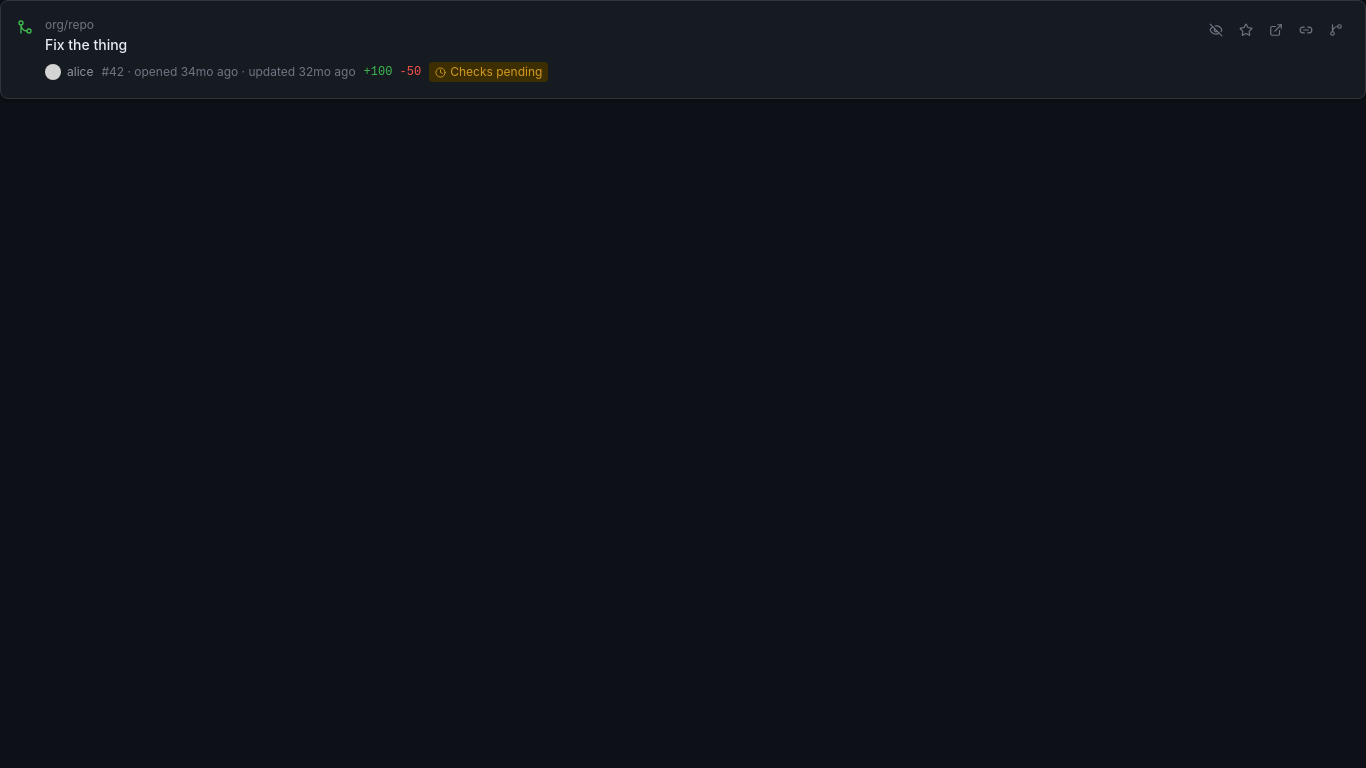
Test: PRCard › PRChecksModal rollup state footer › GIVEN rollup EXPECTED with all-green contexts WHEN checks opened THEN footer note appears
Step 1. Click the button "Checks pending" → (489, 72), box [429,62,548,82]
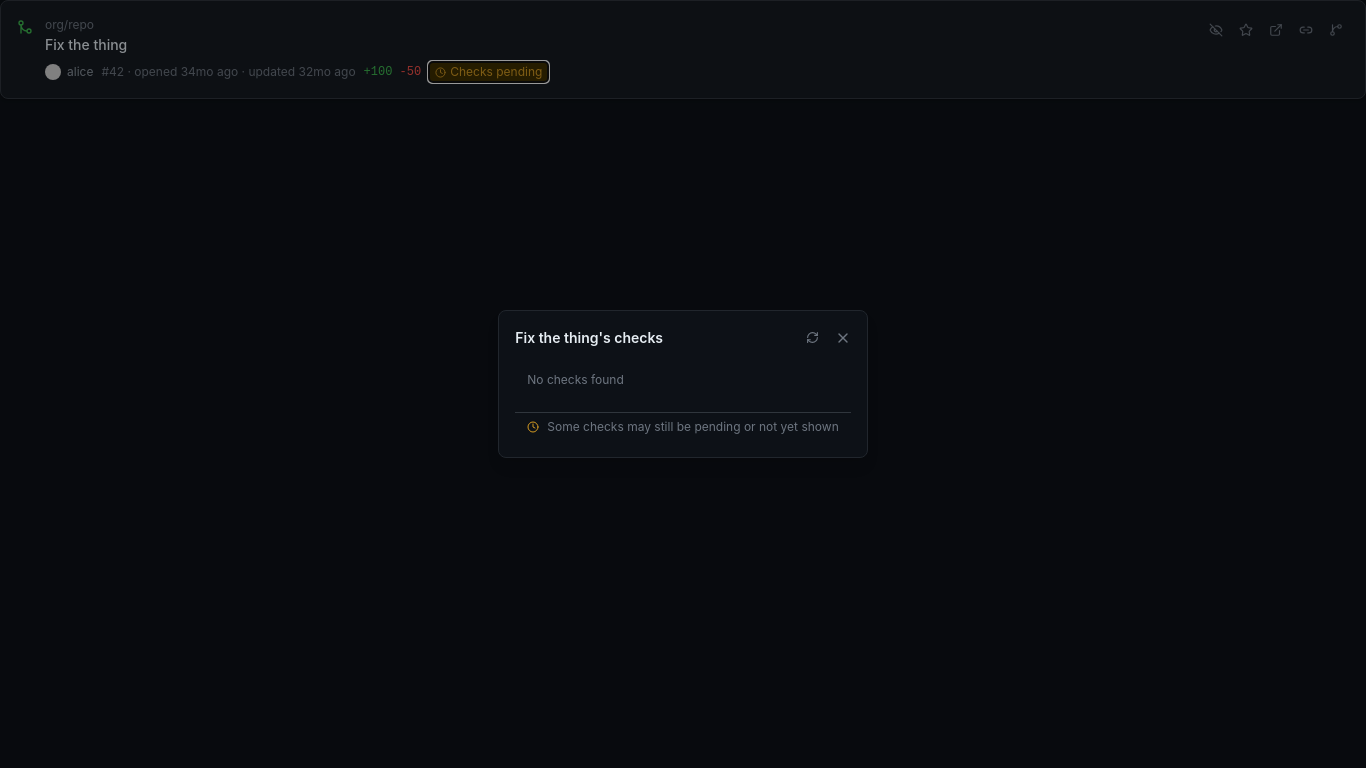
Now the text "Some checks may still be pending or not yet shown" is shown, box [547,419,839,435]
